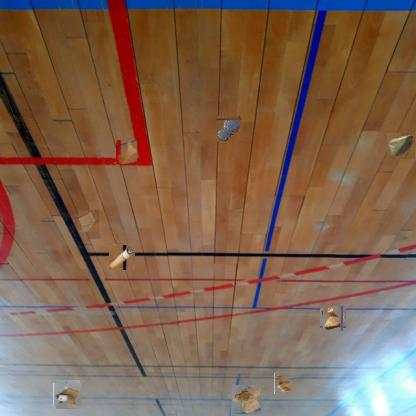dirty: (232, 385, 262, 415), (387, 133, 415, 159), (55, 381, 81, 408), (109, 244, 135, 270), (321, 306, 345, 329), (78, 210, 100, 232), (274, 372, 295, 394)
liquid: (217, 117, 241, 141), (114, 141, 138, 163)
